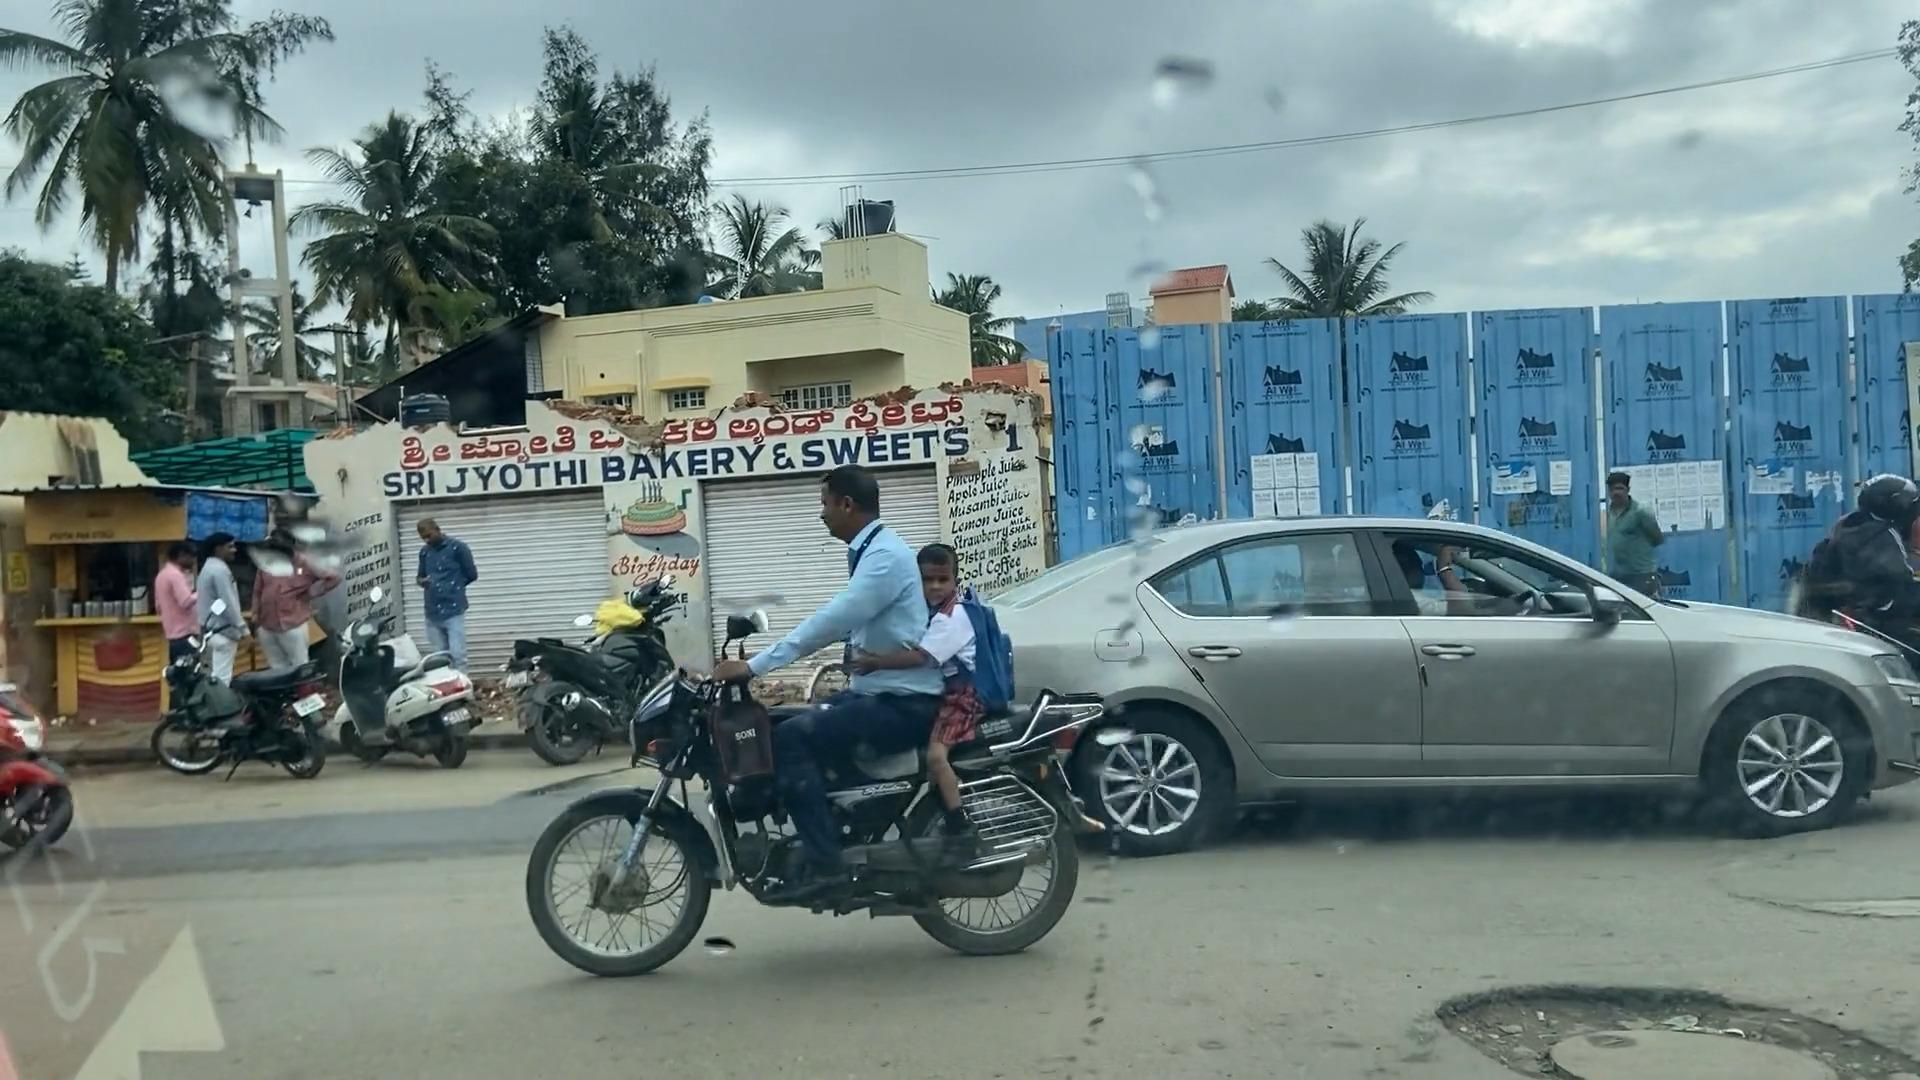LMV: (537, 476, 1067, 990), (1073, 517, 1846, 816)
RoadDamages: (1416, 977, 1920, 1080), (1700, 870, 1920, 971)
